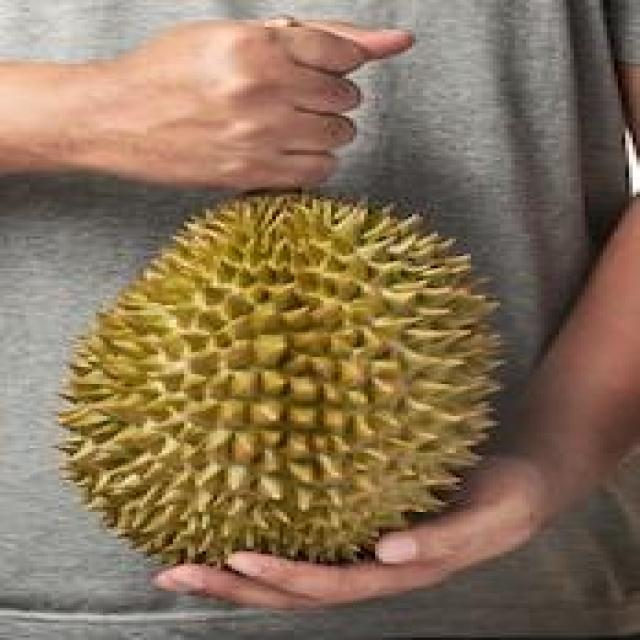mature: (64, 195, 493, 563)
